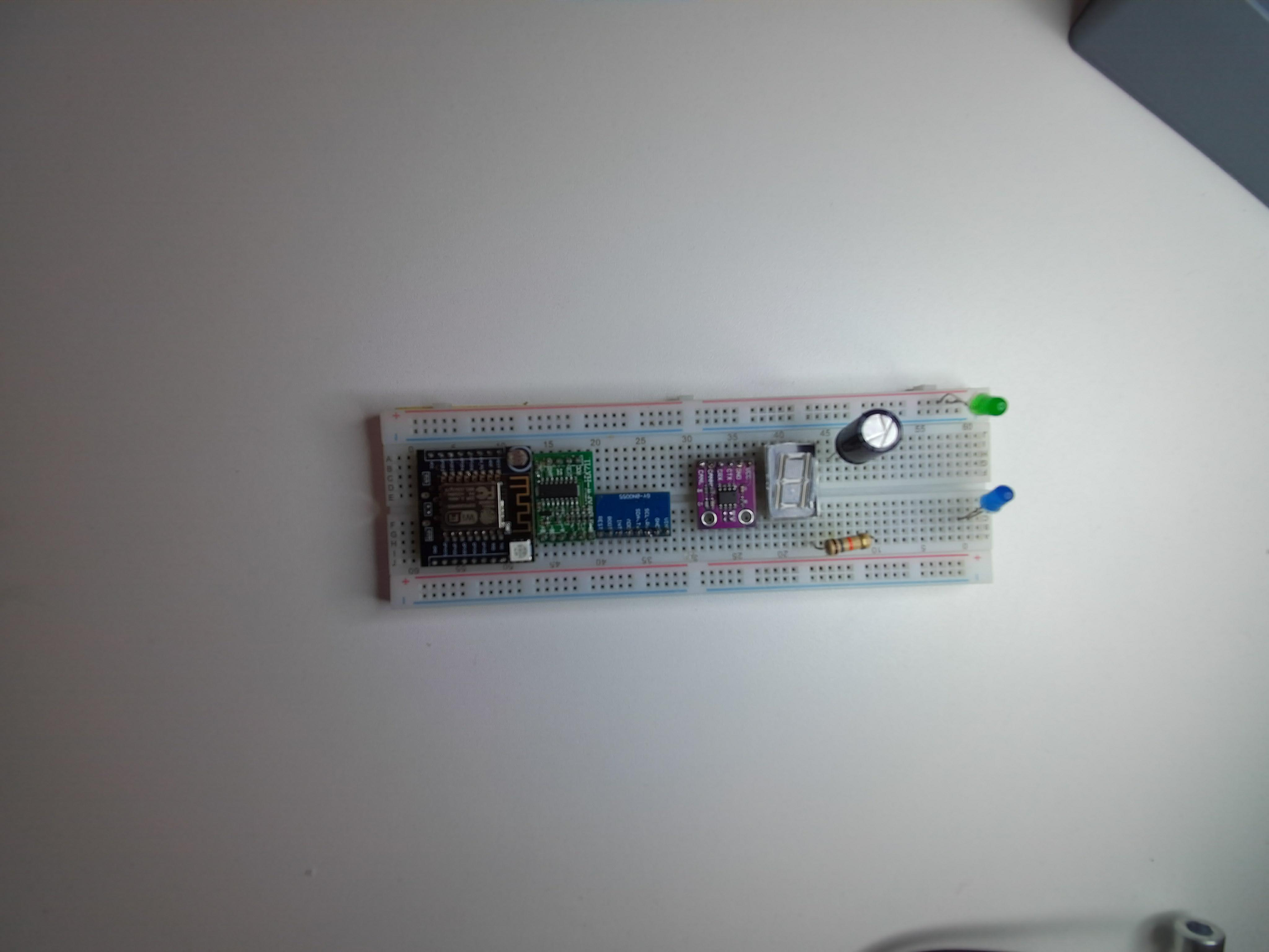base: (356, 382, 1014, 608)
blue-board: (595, 490, 672, 539)
blue-led: (977, 482, 1017, 513)
capacitor: (841, 409, 902, 461)
digit-board: (764, 441, 818, 522)
esp: (414, 448, 538, 572)
green-board: (532, 449, 597, 547)
green-led: (965, 391, 1009, 419)
purple-board: (686, 449, 762, 531)
resistor-big: (823, 531, 875, 556)
